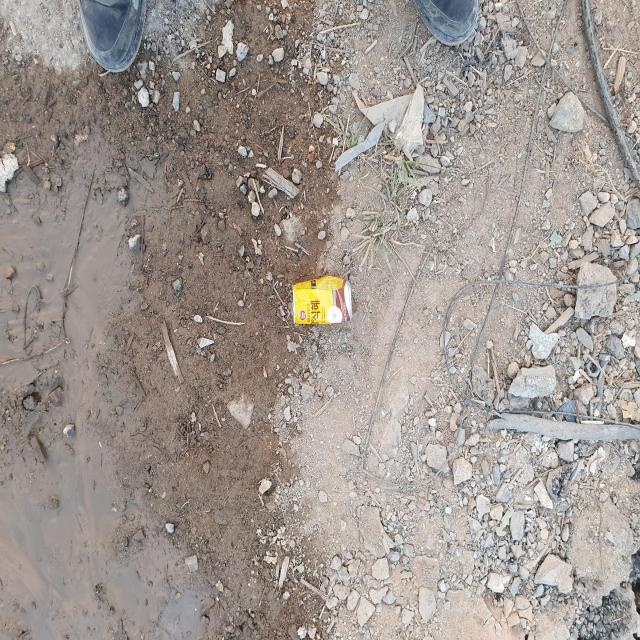can: (292, 275, 353, 324)
